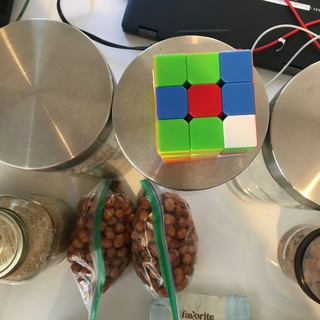face: (151, 50, 257, 151)
